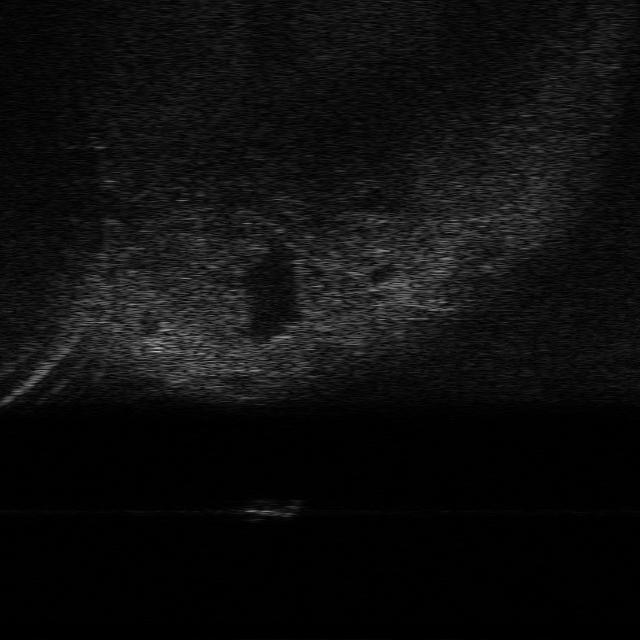cube: (248, 493, 300, 518)
